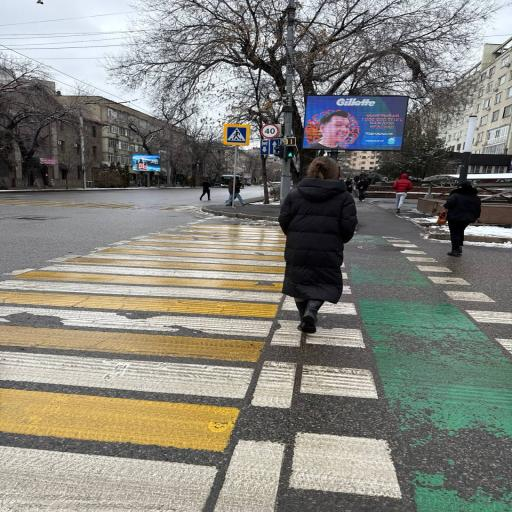chair: (0, 223, 401, 512), (0, 199, 197, 211)
crosswalk: (278, 157, 358, 333), (444, 180, 481, 257)
glass_wall: (0, 188, 511, 511)
